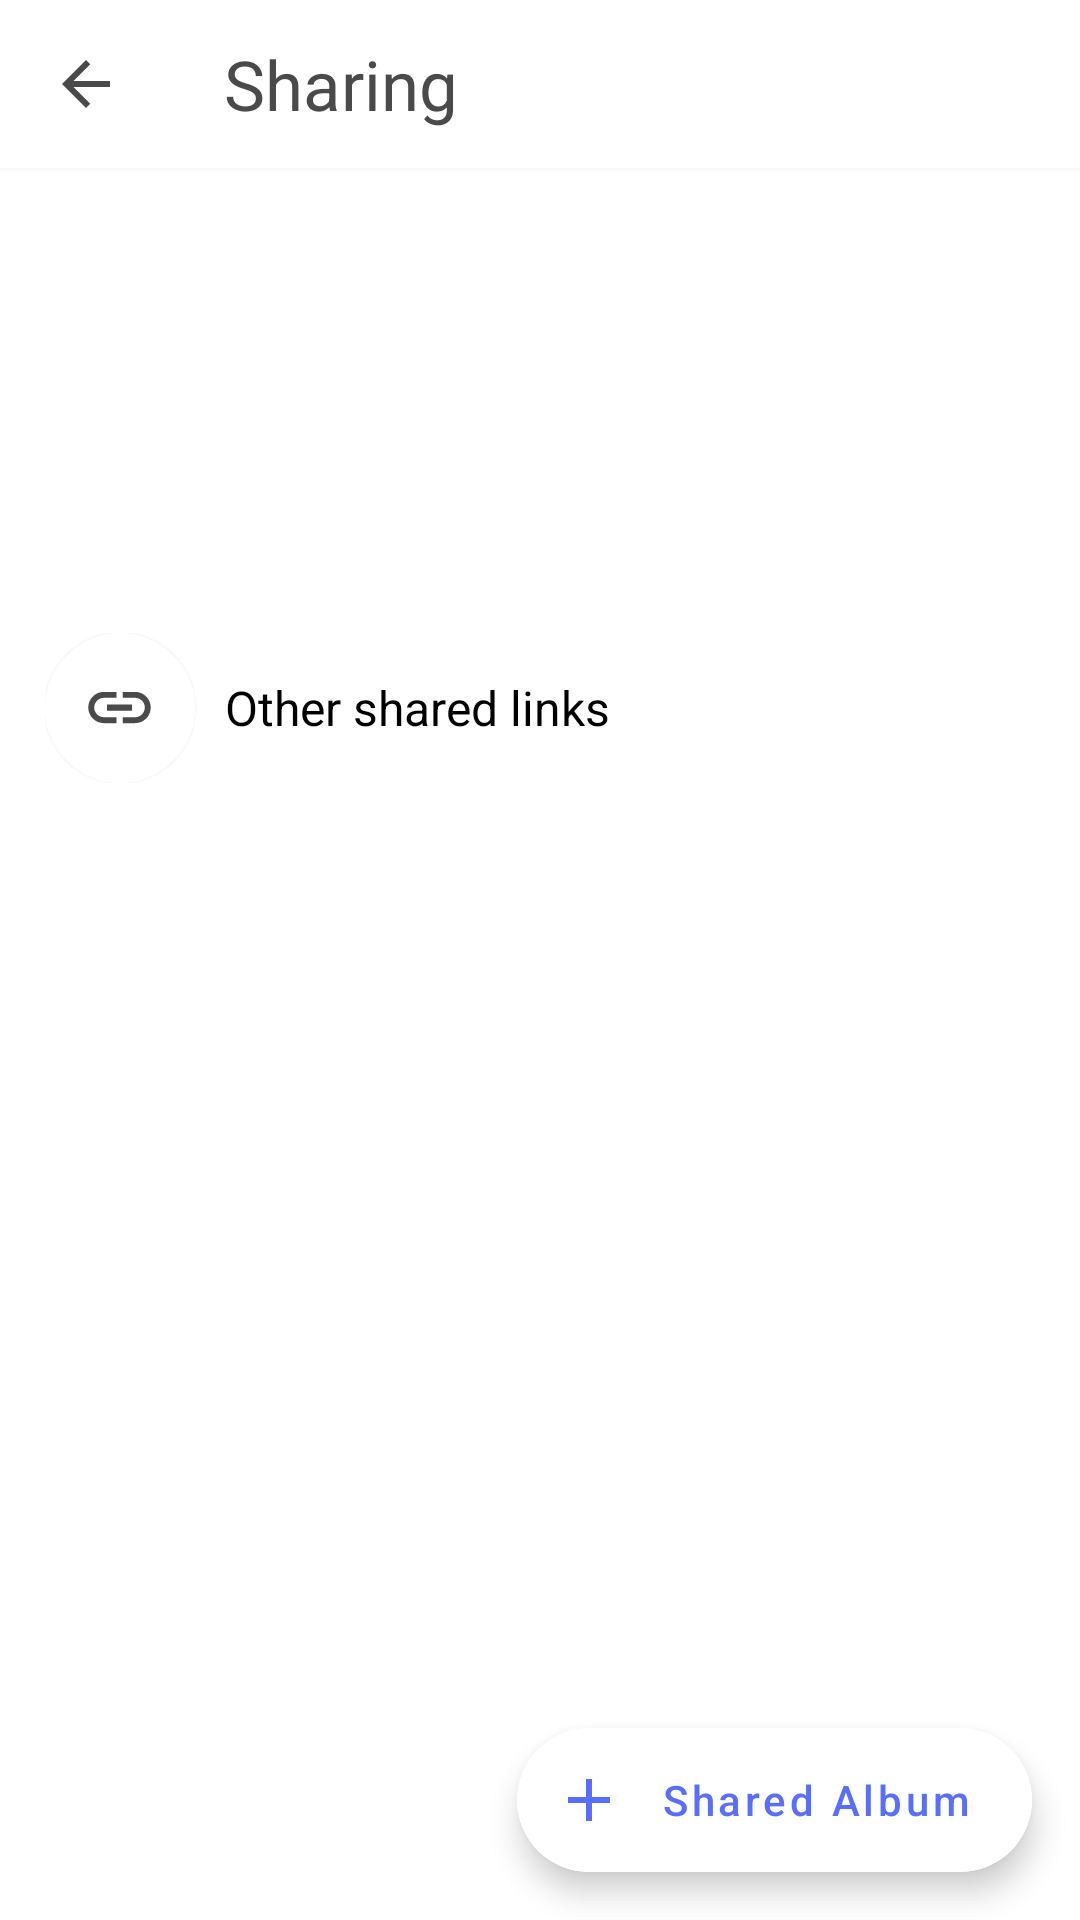

Icon click points for this 1080px x 1920px phone screenshot, format [x,y]:
back: [86,84]
